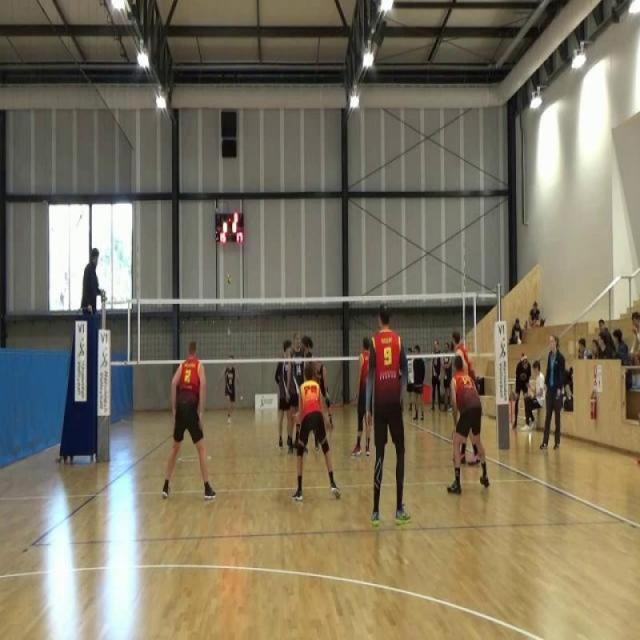volleyball: (225, 273, 232, 286)
